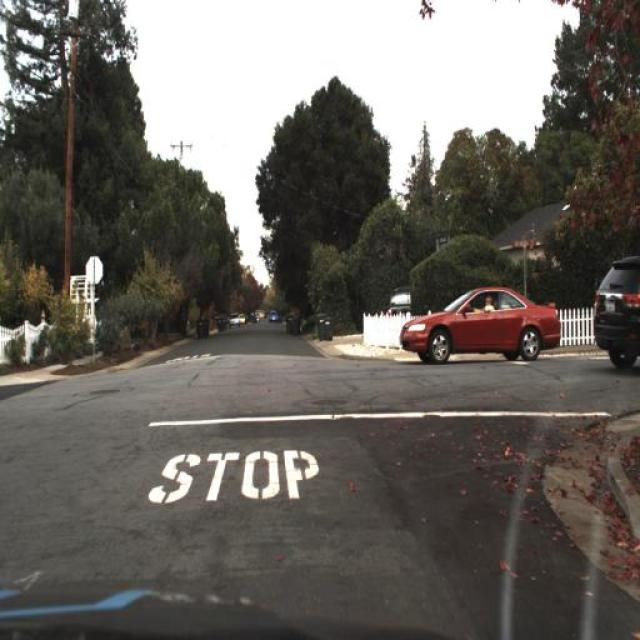car: (398, 282, 566, 368), (592, 250, 638, 374), (230, 314, 242, 328)
